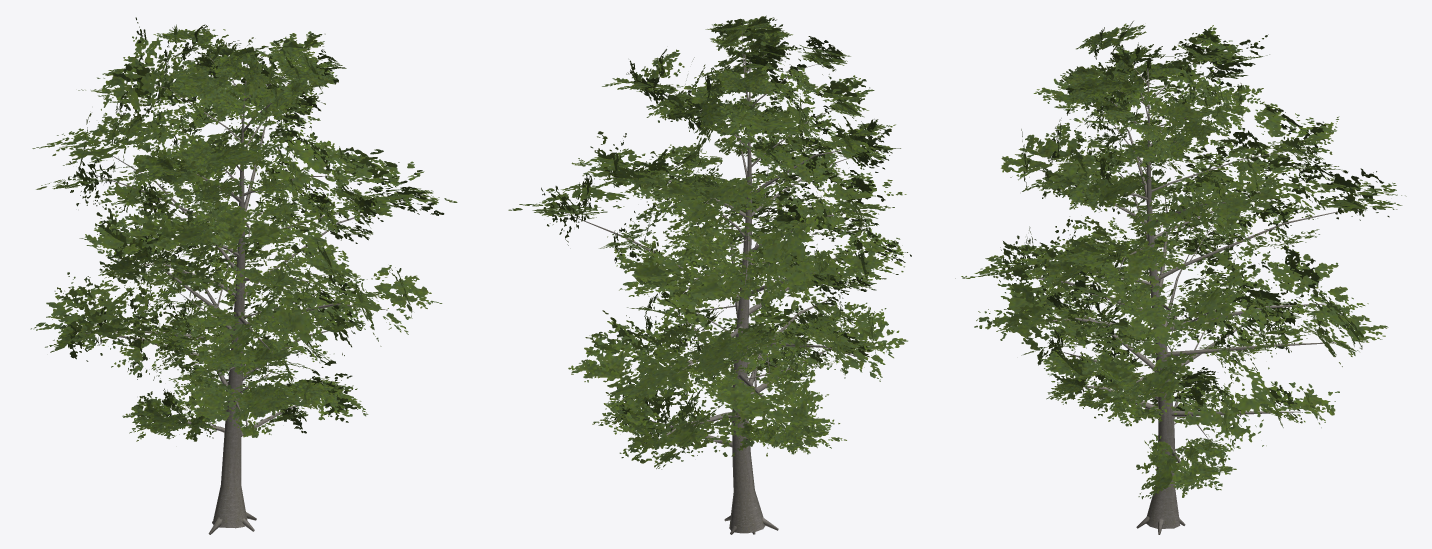
Rendered from HeroAmericanBeechLOD0.fbx.
The picture shows the model from 3 angles, left to right: view 1: azimuth 30°, elevation 25°; view 2: azimuth 150°, elevation 25°; view 3: azimuth 270°, elevation 25°; orthographic projection. The views are drawn at different scales.
Parts seen in each view (by area): view 1: Foliage, Bark; view 2: Foliage, Bark; view 3: Foliage, Bark.
Part boxes in pixels (x1=…): Foliage: x1=30, y1=17, x2=457, y2=441; Bark: x1=85, y1=51, x2=403, y2=534; Foliage: x1=508, y1=15, x2=911, y2=469; Bark: x1=564, y1=30, x2=867, y2=534; Foliage: x1=955, y1=21, x2=1406, y2=499; Bark: x1=1011, y1=48, x2=1343, y2=534.
Bounding box in the file's own units: 10.24 × 12.16 × 10.74.
